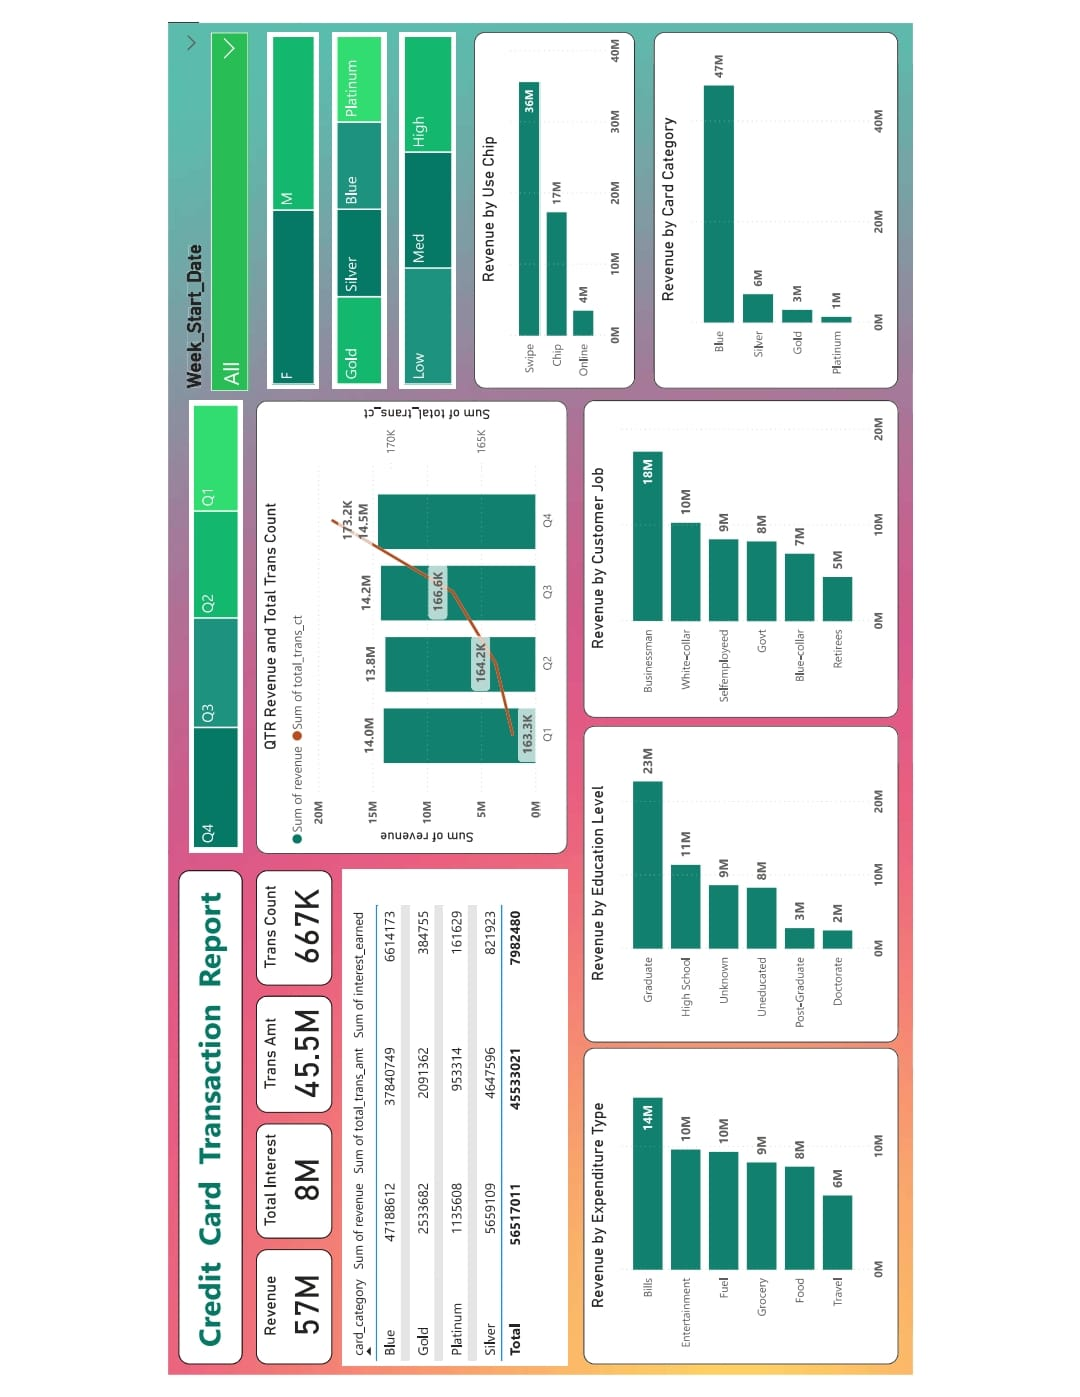

What the dashboard file says about the page in this screenshot:
{"tool":"powerbi","page":{"name":"CC Transaction","canvas":[1455,800],"ordinal":0},"visuals":[{"type":"textbox","box":[11,11,532.3,69.3],"z":0},{"type":"lineStackedColumnComboChart","title":"QTR Revenue and Total Trans Count","fields":{"Category":["public cc_detail.qtr"],"Y":["Sum(public cc_detail.revenue)"],"Y2":["Sum(public cc_detail.total_trans_ct)"]},"box":[560.6,94.5,488.2,333.9],"z":1000},{"type":"barChart","title":"Revenue by Expenditure Type","fields":{"Y":["Sum(public cc_detail.revenue)"],"Category":["public cc_detail.exp_type"]},"box":[11,445.7,341,338.6],"z":2000},{"type":"barChart","title":"Revenue by Education Level","fields":{"Y":["Sum(public cc_detail.revenue)"],"Category":["public cust_detail.education_level"]},"box":[357.5,445.7,341,338.6],"z":3000},{"type":"barChart","title":"Revenue by Customer Job","fields":{"Y":["Sum(public cc_detail.revenue)"],"Category":["public cust_detail.customer_job"]},"box":[707.1,445.7,341.7,338.6],"z":4000},{"type":"barChart","title":"Revenue by Card Category","fields":{"Y":["Sum(public cc_detail.revenue)"],"Category":["public cc_detail.card_category"]},"box":[1061.4,521.3,384.3,263],"z":5000},{"type":"barChart","title":"Revenue by Use Chip","fields":{"Y":["Sum(public cc_detail.revenue)"],"Category":["public cc_detail.use_chip"]},"box":[1061.4,329.1,384.3,171.7],"z":6000},{"type":"tableEx","fields":{"Values":["public cc_detail.card_category","Sum(public cc_detail.revenue)","Sum(public cc_detail.total_trans_amt)","Sum(public cc_detail.interest_earned)"]},"box":[9.4,187.4,533.9,240.9],"z":7000},{"type":"card","title":"Revenue","fields":{"Values":["Sum(public cc_detail.revenue)"]},"box":[11,94.5,124.4,81.9],"z":8000},{"type":"card","title":"Trans Amt","fields":{"Values":["Sum(public cc_detail.total_trans_amt)"]},"box":[281.9,94.5,126,81.9],"z":9000},{"type":"card","title":"Total Interest","fields":{"Values":["Sum(public cc_detail.interest_earned)"]},"box":[146.5,94.5,124.4,81.9],"z":10000},{"type":"card","title":"Trans Count","fields":{"Values":["Sum(public cc_detail.total_trans_ct)"]},"box":[418.9,94.5,124.4,81.9],"z":11000},{"type":"slicer","fields":{"Values":["public cc_detail.week_start_date"]},"box":[1048.8,11,406.3,83.5],"z":12000},{"type":"treemap","fields":{"Group":["public cc_detail.qtr"],"Values":["Avg(public cc_detail.client_num)"]},"box":[562.2,22,486.6,58.3],"z":13000},{"type":"treemap","fields":{"Group":["public cust_detail.gender"],"Values":["Avg(public cc_detail.client_num)"]},"box":[1061.4,107.1,384.3,55.1],"z":14000},{"type":"treemap","fields":{"Group":["public cc_detail.card_category"],"Values":["Avg(public cc_detail.client_num)"]},"box":[1061.4,176.4,384.3,58.3],"z":15000},{"type":"treemap","fields":{"Group":["public cust_detail.income_group"],"Values":["Avg(public cc_detail.client_num)"]},"box":[1061.4,248.8,384.3,61.4],"z":16000}]}

Visuals, with their boxes on the page's 1455x800 design canvas (x1, y1, x2, y2). These are canvas units, not pixel positions in the 1080x1397 screenshot, which may show the page scaled, cropped or inside an application window:
textbox: [11, 11, 543, 80]
"QTR Revenue and Total Trans Count" lineStackedColumnComboChart: [561, 94, 1049, 428]
"Revenue by Expenditure Type" barChart: [11, 446, 352, 784]
"Revenue by Education Level" barChart: [358, 446, 698, 784]
"Revenue by Customer Job" barChart: [707, 446, 1049, 784]
"Revenue by Card Category" barChart: [1061, 521, 1446, 784]
"Revenue by Use Chip" barChart: [1061, 329, 1446, 501]
tableEx - public cc_detail.card_category x Sum(public cc_detail.revenue): [9, 187, 543, 428]
"Revenue" card: [11, 94, 135, 176]
"Trans Amt" card: [282, 94, 408, 176]
"Total Interest" card: [146, 94, 271, 176]
"Trans Count" card: [419, 94, 543, 176]
slicer - public cc_detail.week_start_date: [1049, 11, 1455, 94]
treemap - public cc_detail.qtr x Avg(public cc_detail.client_num): [562, 22, 1049, 80]
treemap - public cust_detail.gender x Avg(public cc_detail.client_num): [1061, 107, 1446, 162]
treemap - public cc_detail.card_category x Avg(public cc_detail.client_num): [1061, 176, 1446, 235]
treemap - public cust_detail.income_group x Avg(public cc_detail.client_num): [1061, 249, 1446, 310]
